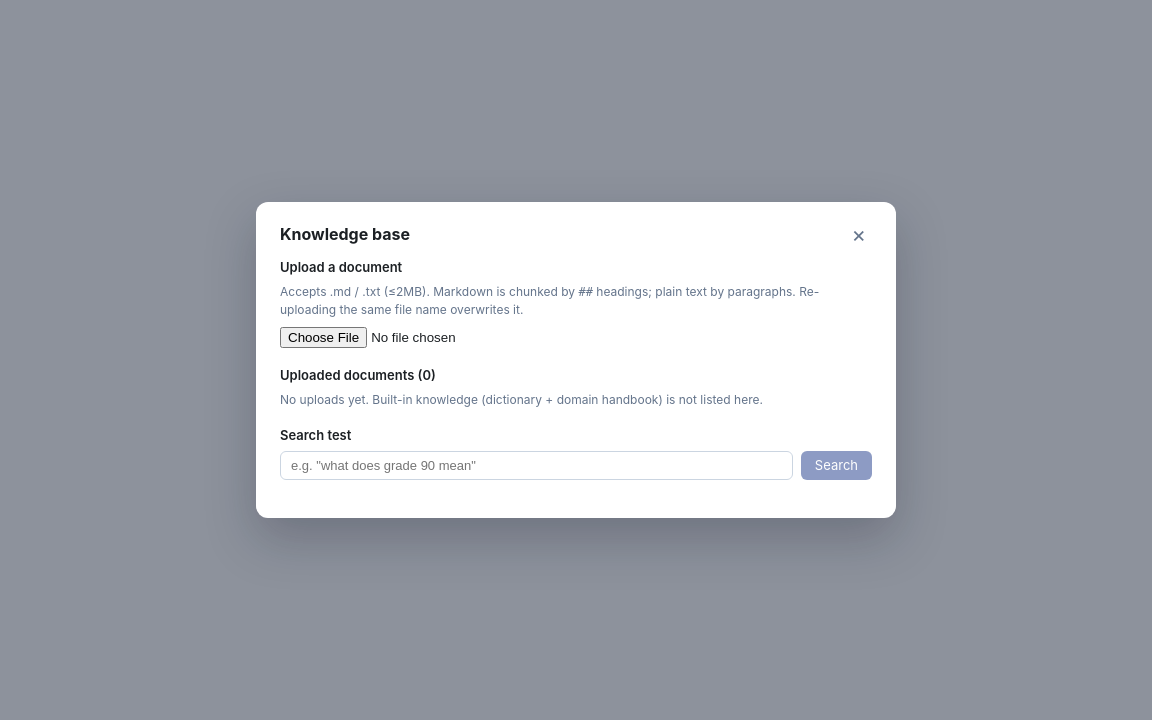
Scenario: KnowledgePanel › renders the no-hits row for an empty result
Type "zzz" into the field with placeholder "e.g. \"what does grade 90 mean\"".
click(536, 465); type("zzz")  # box [280,451,793,480]
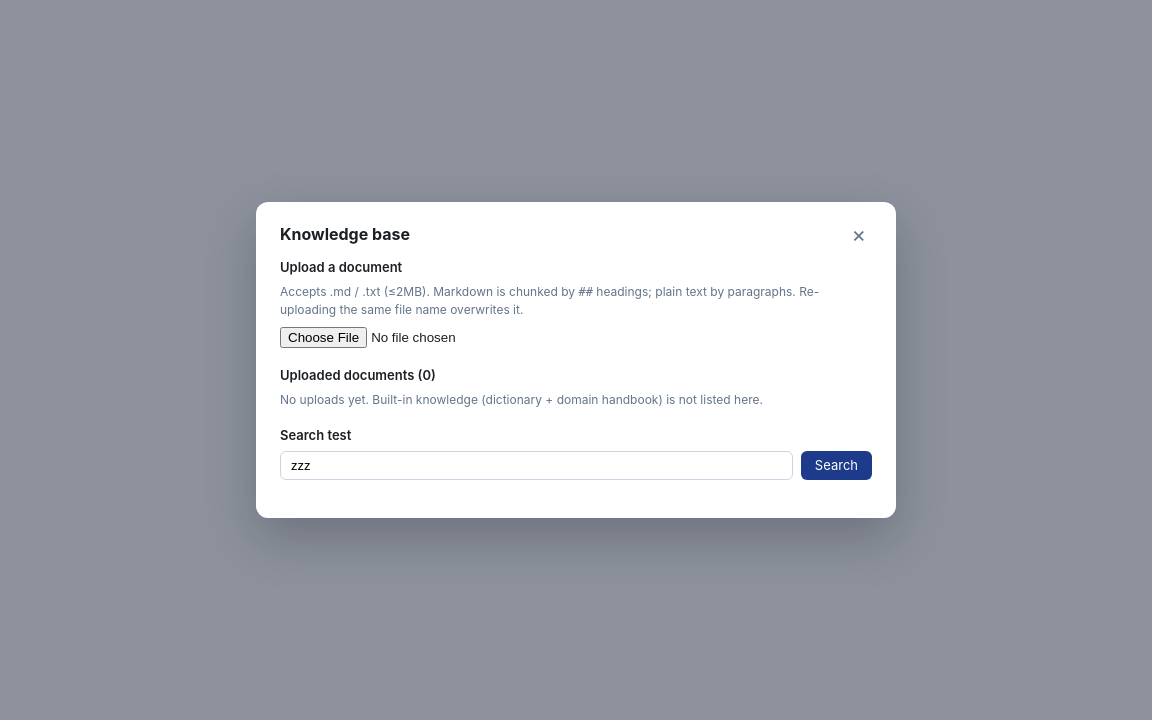
Click the button "Search".
click(836, 465)  # box [801,451,872,480]
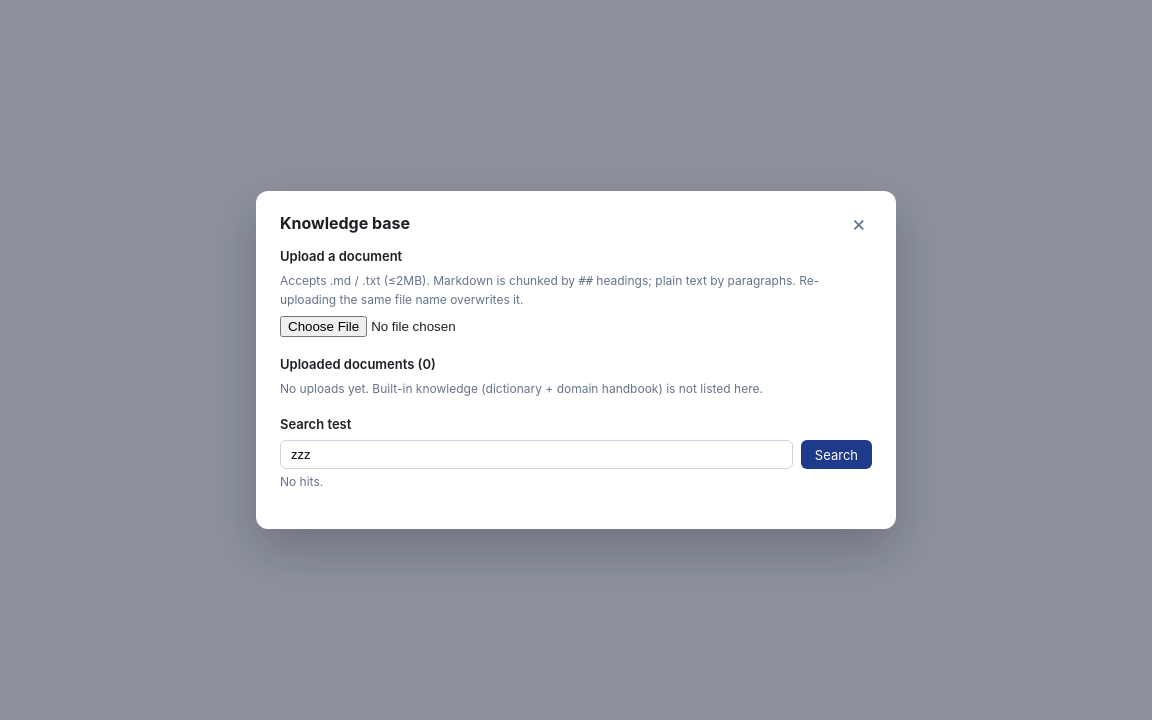
Expected: the list item "No hits." is shown, [280,474,323,489]
